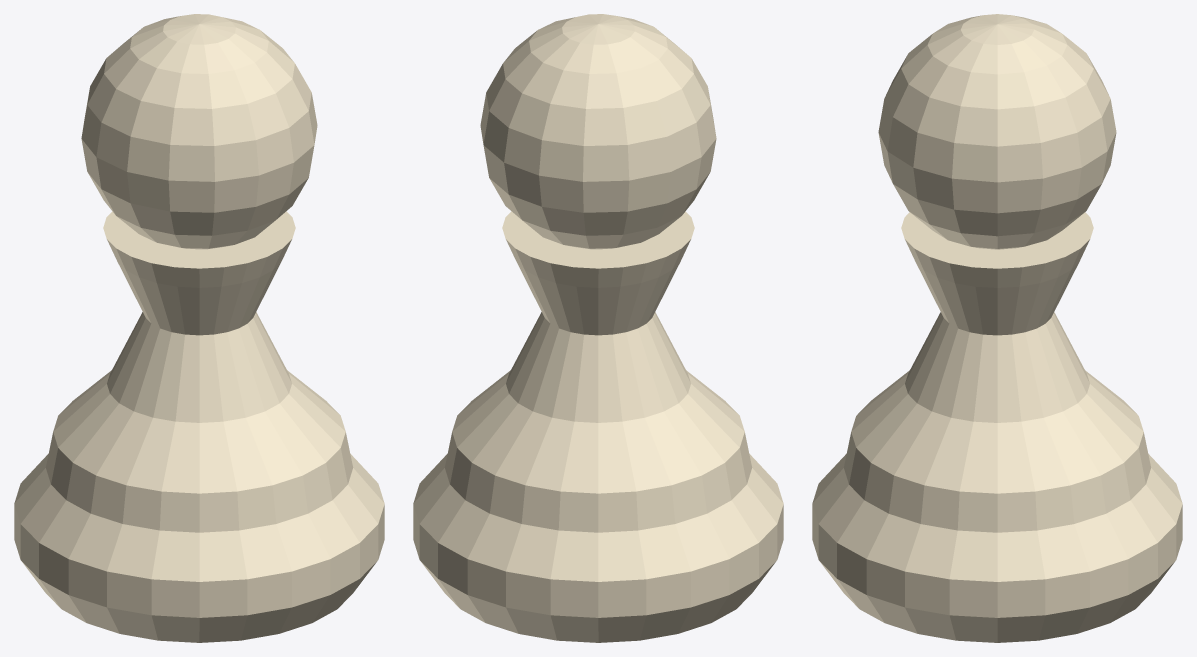
The model's file is pawn.glb.
The picture shows the model from 3 angles, left to right: view 1: azimuth 30°, elevation 25°; view 2: azimuth 150°, elevation 25°; view 3: azimuth 270°, elevation 25°; orthographic projection.
Parts seen in each view (by area): view 1: pawn; view 2: pawn; view 3: pawn.
Boxes of the visible parts, <box> form: pawn: <box>14,14,384,642</box>; pawn: <box>413,14,783,642</box>; pawn: <box>812,14,1182,642</box>.
Size of the model in its own units: 0.028 by 0.046 by 0.028.
